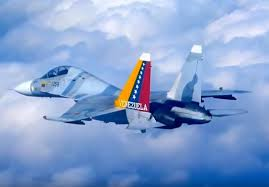maybay_muctieu: (13, 45, 244, 140)
